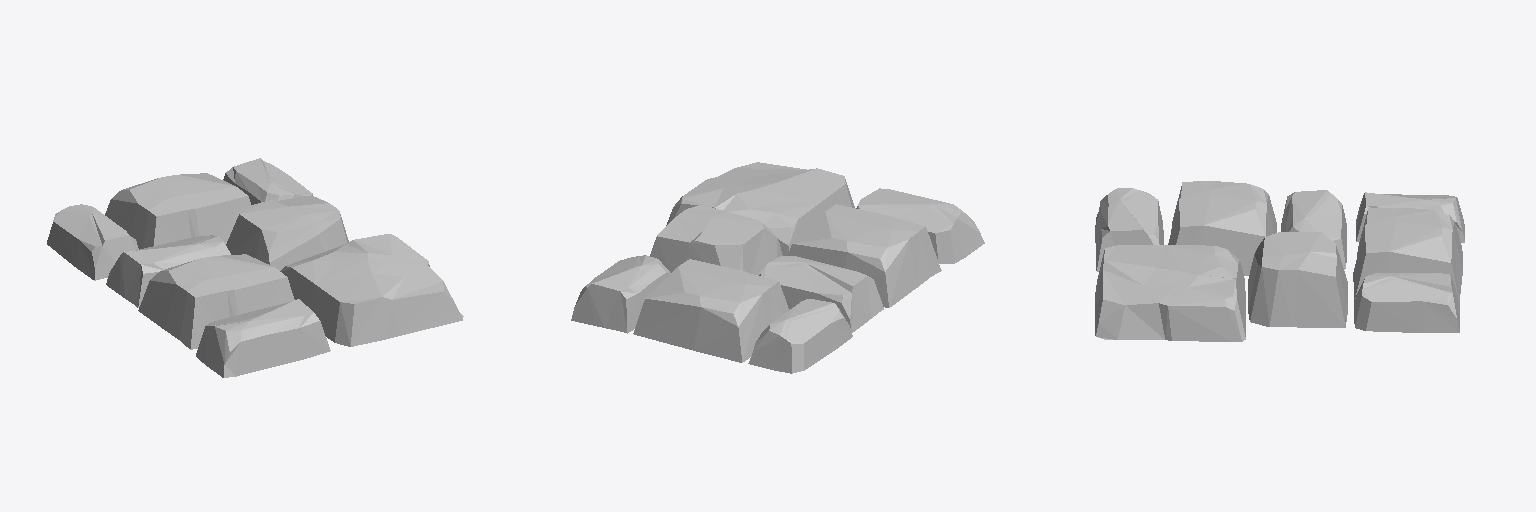
The model's file is RockPath_Square_Small_3.obj.
The picture shows the model from 3 angles: view 1: azimuth 30°, elevation 25°; view 2: azimuth 150°, elevation 25°; view 3: azimuth 270°, elevation 25°; orthographic projection.
Visible parts, largest first — view 1: RockPath_Square_Small_3; view 2: RockPath_Square_Small_3; view 3: RockPath_Square_Small_3.
Boxes of the visible parts, <box> form: RockPath_Square_Small_3: <box>47,158,463,377</box>; RockPath_Square_Small_3: <box>571,162,984,373</box>; RockPath_Square_Small_3: <box>1095,181,1464,341</box>.
Size of the model in its own units: 0.8359 by 0.1736 by 1.08.